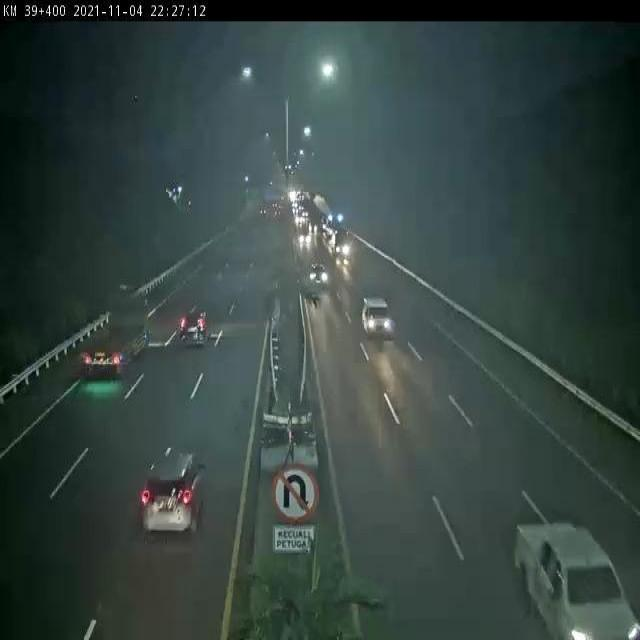car: (139, 445, 207, 535), (361, 295, 395, 337), (177, 308, 210, 345), (306, 264, 331, 291)
truck-m-: (76, 288, 154, 380)
